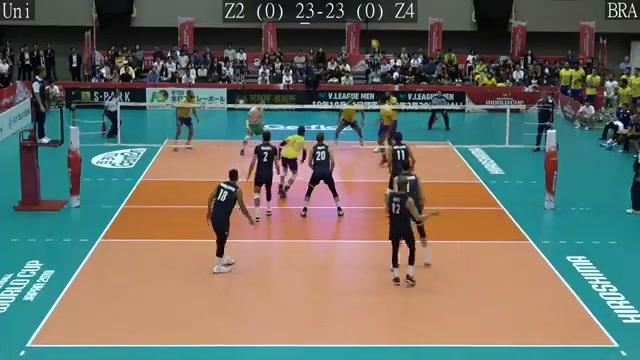ball: (369, 39, 379, 51)
